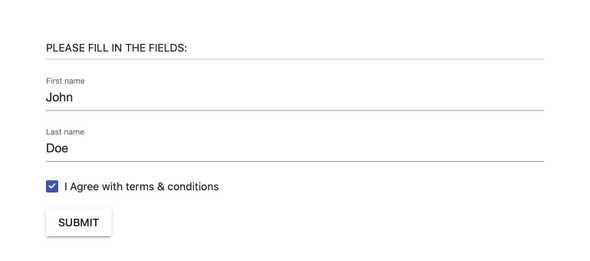button: (48, 208, 112, 237)
checkbox: (47, 180, 59, 194)
label: (63, 182, 222, 196), (47, 42, 191, 57), (45, 76, 89, 87), (46, 129, 89, 139)
